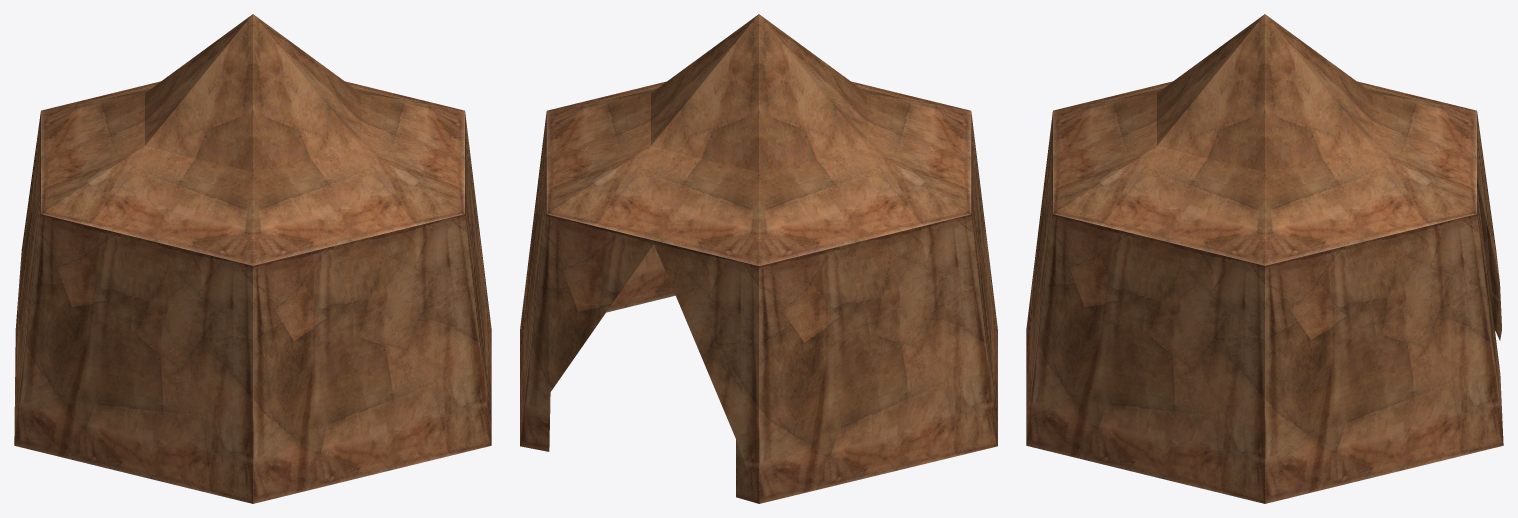
Rendered from thm_tato_tent_house_s01_l2.fbx.
3 views of the same model, side by side, from view 1: azimuth 30°, elevation 25°; view 2: azimuth 150°, elevation 25°; view 3: azimuth 270°, elevation 25° (orthographic).
Visible parts, largest first — view 1: mesh_node; view 2: mesh_node; view 3: mesh_node.
Part boxes in pixels (<box>): mesh_node: <box>14,14,491,503</box>; mesh_node: <box>520,14,997,503</box>; mesh_node: <box>1026,14,1503,503</box>.
Size of the model in its own units: 8.62 by 6.45 by 7.47.
